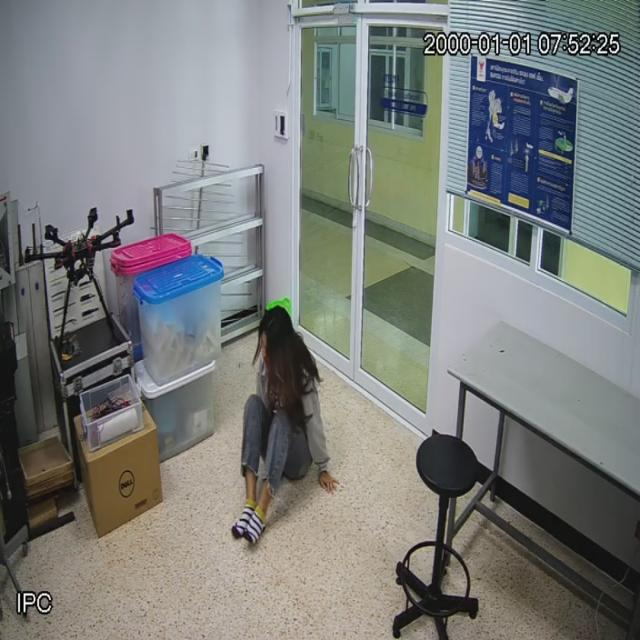fall: (232, 308, 336, 548)
